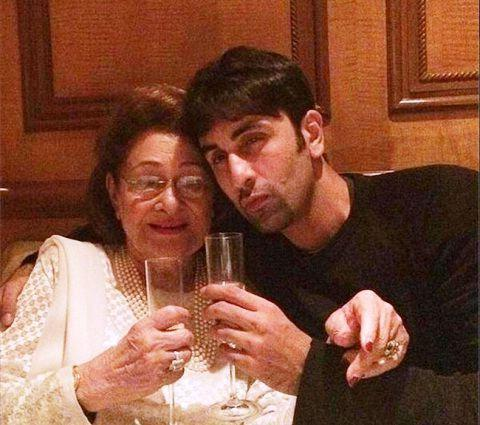Drunk: (201, 119, 310, 227), (123, 138, 210, 256)
